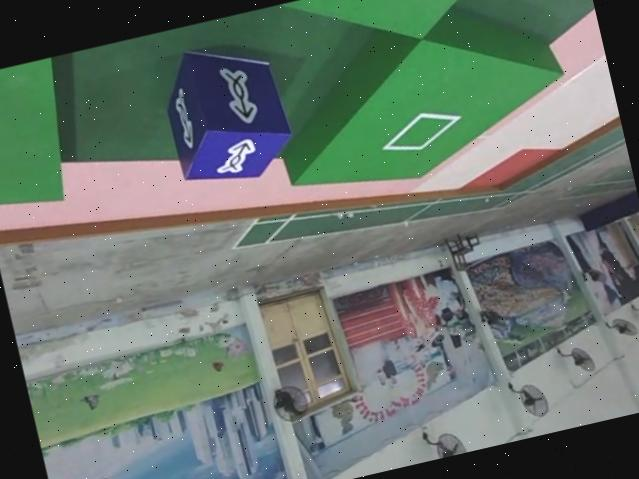R2 Real Blue: (155, 29, 301, 192)
